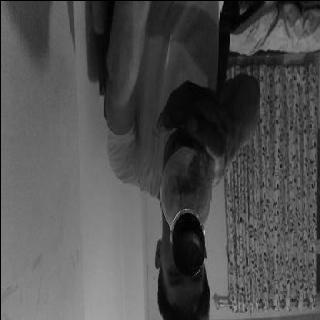plastic_bottles: (162, 120, 208, 270)
